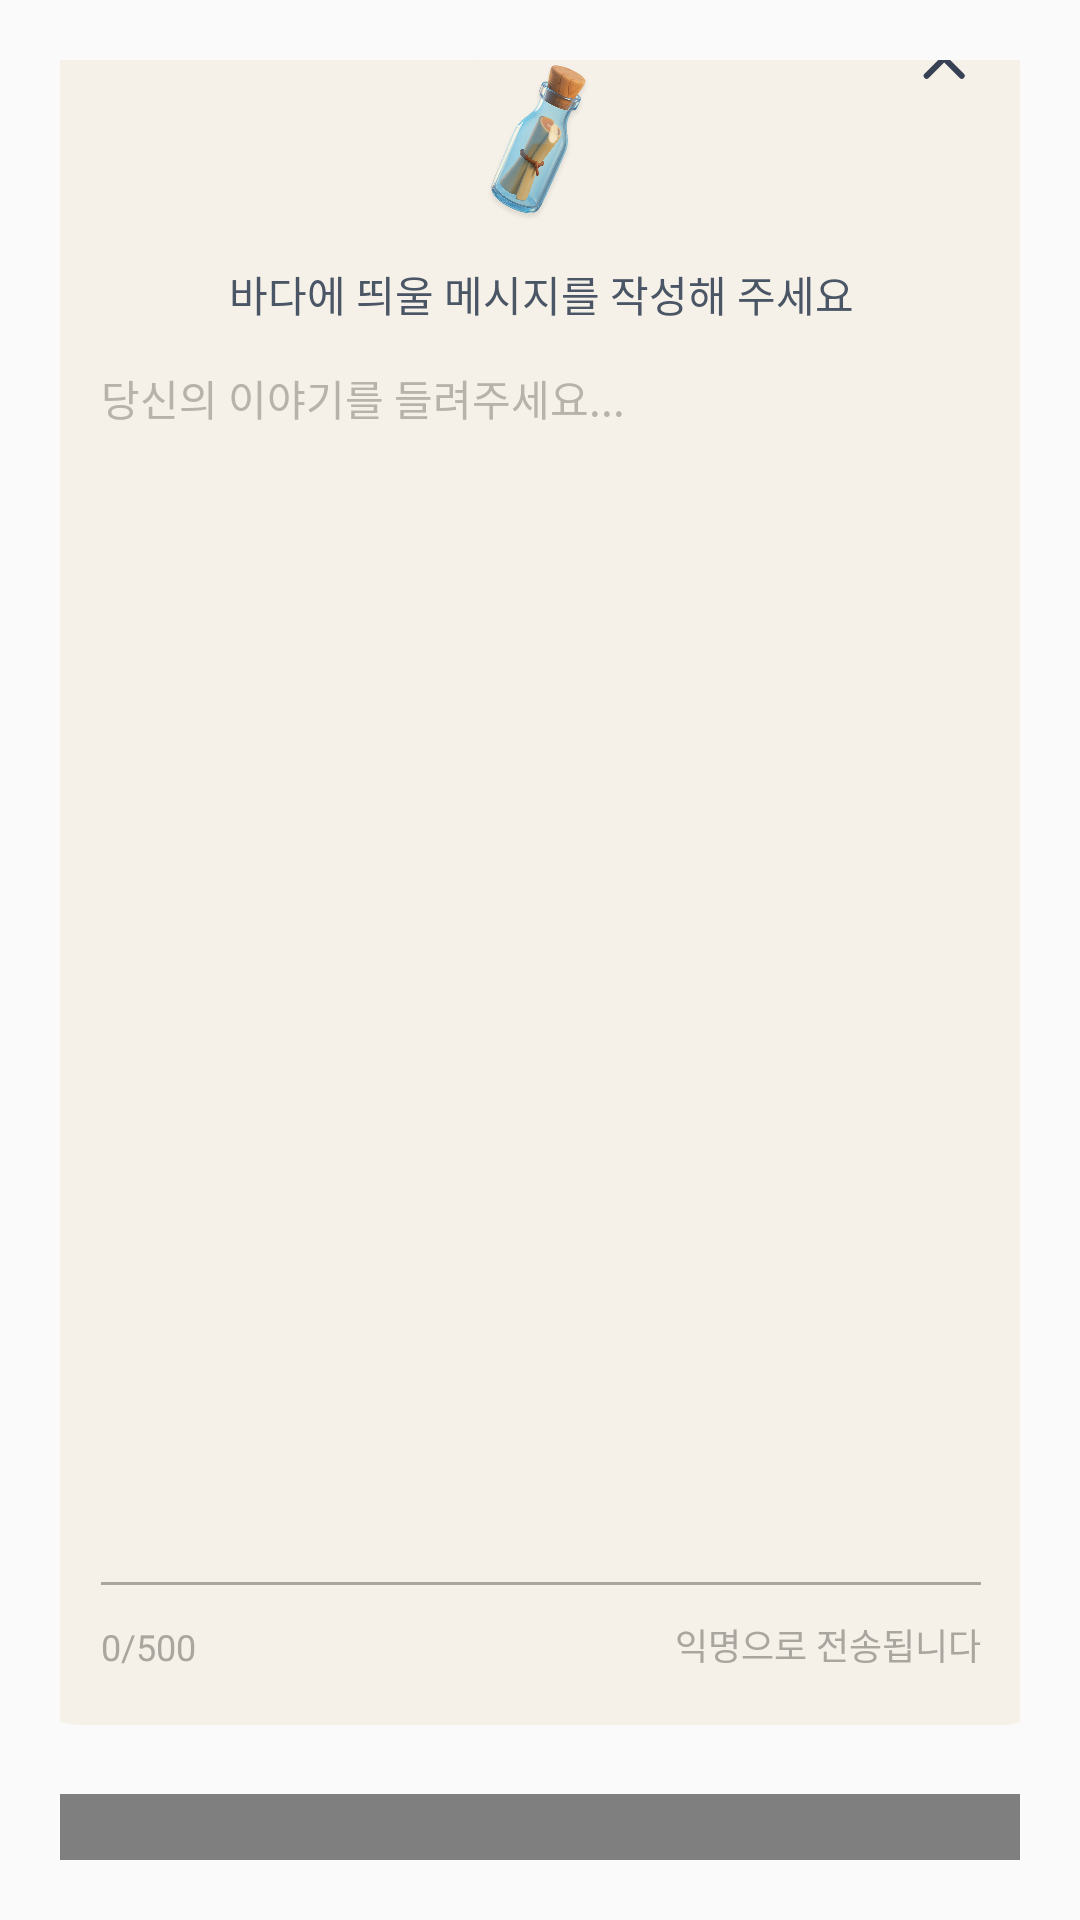

Icon bounding boxes for this 1080 x 1920 phone screenshot, format bbox=[x1, y1, x2, y2]:
bottle: bbox=[491, 65, 586, 213]
